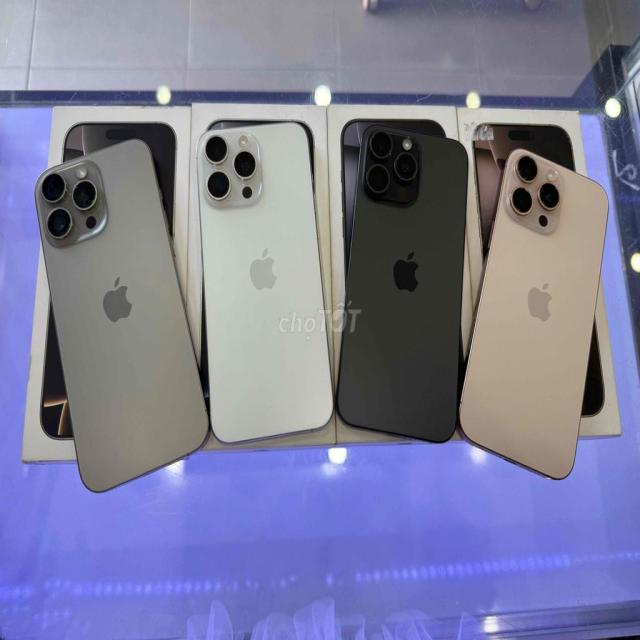gen_16: (32, 139, 208, 498)
